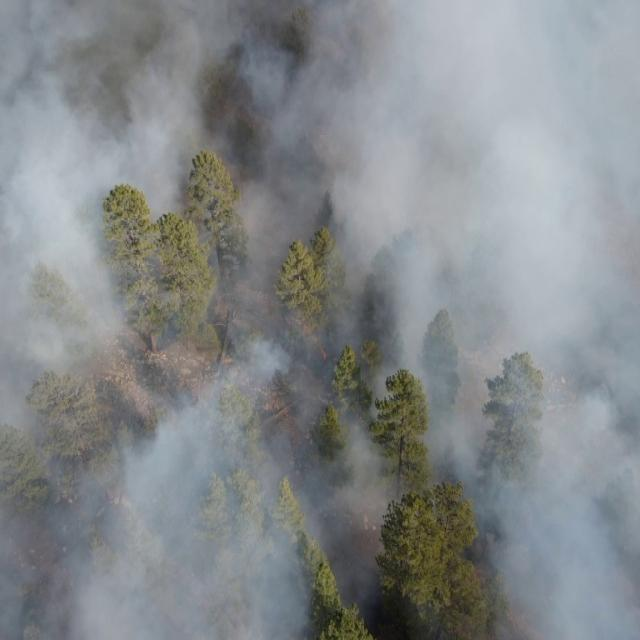fire: (320, 347, 328, 364)
smoke: (0, 0, 309, 640), (485, 0, 640, 640), (309, 0, 484, 551), (327, 551, 396, 634)
